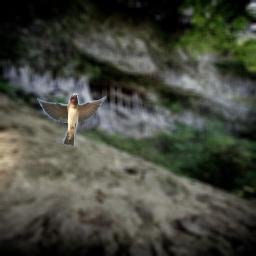Swallow: (37, 93, 107, 146)
